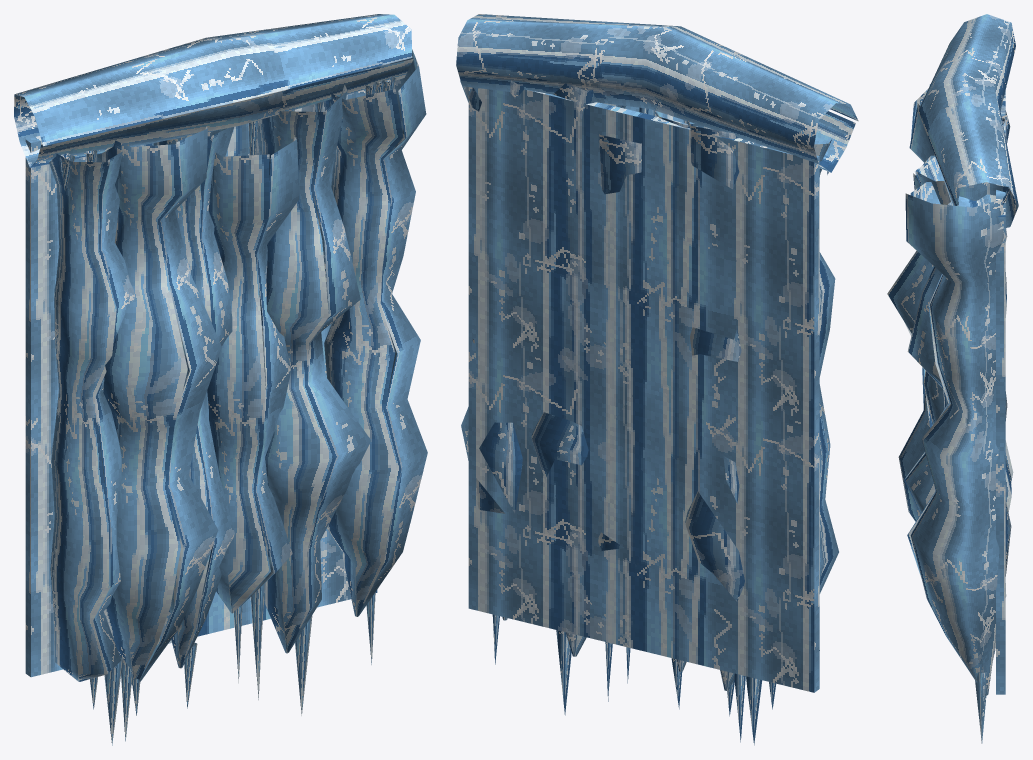
Rendered from prop_ice_wall.glb.
3 views of the same model, side by side, from view 1: azimuth 30°, elevation 25°; view 2: azimuth 150°, elevation 25°; view 3: azimuth 270°, elevation 25° (orthographic). The views are drawn at different scales.
Parts seen in each view (by area): view 1: prop_ice_wall; view 2: prop_ice_wall; view 3: prop_ice_wall.
Boxes of the visible parts, <box> form: prop_ice_wall: <box>14,14,427,745</box>; prop_ice_wall: <box>456,14,858,745</box>; prop_ice_wall: <box>887,14,1018,743</box>.
Size of the model in its own units: 4.25 by 7.4 by 1.4.
Materials: 1 (1 with a texture image).
